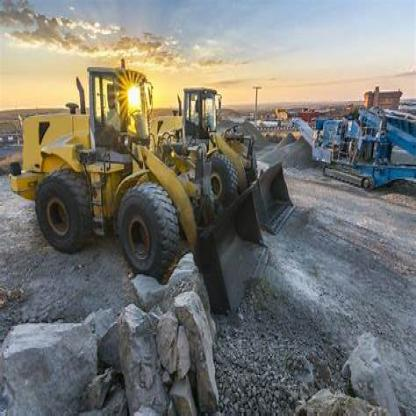bull_dozer/loader/grader: (4, 59, 270, 304)
